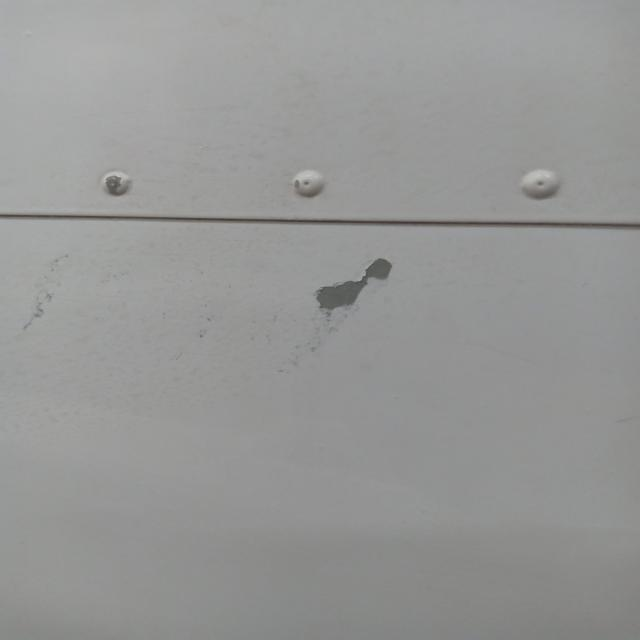Crack: (232, 170, 461, 460)
